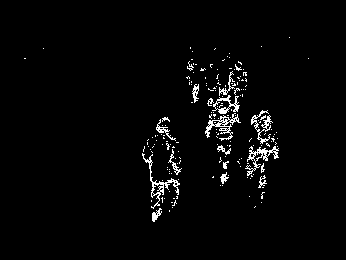person: (141, 117, 183, 222), (248, 108, 279, 204), (205, 93, 236, 185), (228, 61, 248, 107)
